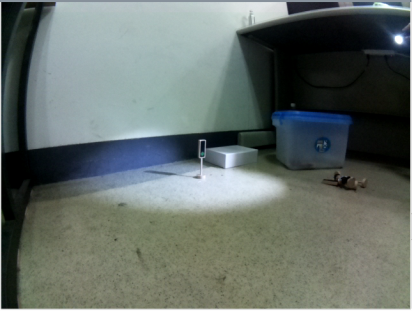Green: (197, 136, 207, 160)
